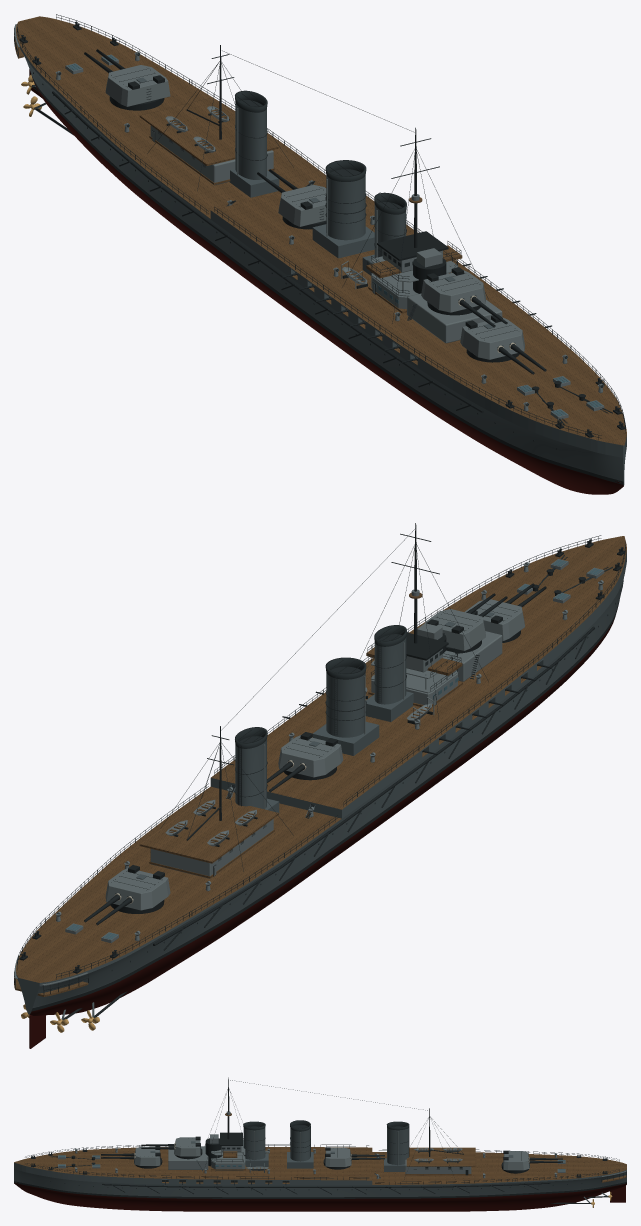
File: QueenMary_v4_Exterior.fbx
3 renders of one model, top to bottom at view 1: azimuth 30°, elevation 25°; view 2: azimuth 150°, elevation 25°; view 3: azimuth 270°, elevation 25°, orthographic. The views are drawn at different scales.
Visible parts, largest first — view 1: Forecastle, Hull, Quarterdeck, Presentation_Fittings, Deck_Visual_Details, Aft_Platform, Funnel_2, Funnel_3, Turret_B, Turret_X, Torpedo_Net_Starboard_Mesh, Turret_A (+9 smaller); view 2: Forecastle, Hull, Quarterdeck, Presentation_Fittings, Aft_Platform, Deck_Visual_Details, Funnel_2, Funnel_3, Funnel_1, Torpedo_Net_Starboard_Mesh, Turret_X, Turret_Q (+9 smaller); view 3: Hull, Forecastle, Quarterdeck, Presentation_Fittings, Deck_Visual_Details, Aft_Platform, Torpedo_Net_Port_Mesh, Funnel_3, Funnel_1, Funnel_2, B_Superfiring_Deckhouse, Aft_Deckhouse (+12 smaller).
Boxes of the visible parts, bbox=[...] form: Forecastle: bbox=[210, 182, 626, 457]; Hull: bbox=[25, 57, 626, 494]; Quarterdeck: bbox=[16, 16, 326, 218]; Presentation_Fittings: bbox=[19, 21, 625, 484]; Deck_Visual_Details: bbox=[17, 14, 625, 449]; Aft_Platform: bbox=[139, 98, 278, 165]; Funnel_2: bbox=[325, 160, 366, 240]; Funnel_3: bbox=[235, 90, 267, 179]; Turret_B: bbox=[421, 267, 485, 312]; Turret_X: bbox=[105, 65, 170, 106]; Torpedo_Net_Starboard_Mesh: bbox=[52, 91, 483, 413]; Turret_A: bbox=[460, 314, 524, 359]; Forecastle: bbox=[210, 536, 626, 818]; Hull: bbox=[18, 578, 623, 1015]; Quarterdeck: bbox=[16, 786, 341, 986]; Presentation_Fittings: bbox=[19, 539, 625, 1011]; Aft_Platform: bbox=[139, 795, 278, 863]; Deck_Visual_Details: bbox=[17, 535, 625, 979]; Funnel_2: bbox=[325, 657, 366, 737]; Funnel_3: bbox=[235, 727, 267, 809]; Funnel_1: bbox=[374, 625, 406, 704]; Torpedo_Net_Starboard_Mesh: bbox=[153, 626, 594, 950]; Turret_X: bbox=[105, 865, 170, 910]; Turret_Q: bbox=[278, 732, 343, 777]; Hull: bbox=[14, 1169, 626, 1211]; Forecastle: bbox=[14, 1147, 372, 1185]; Quarterdeck: bbox=[372, 1152, 626, 1185]; Presentation_Fittings: bbox=[14, 1139, 626, 1198]; Deck_Visual_Details: bbox=[25, 1144, 619, 1190]; Aft_Platform: bbox=[406, 1147, 475, 1166]; Torpedo_Net_Port_Mesh: bbox=[102, 1182, 550, 1194]; Funnel_3: bbox=[386, 1121, 409, 1165]; Funnel_1: bbox=[243, 1121, 265, 1160]; Funnel_2: bbox=[290, 1120, 310, 1161]; B_Superfiring_Deckhouse: bbox=[168, 1146, 208, 1169]; Aft_Deckhouse: bbox=[405, 1159, 471, 1173].
Bounding box in the file's own units: 32.1 × 50.09 × 213.
Materials: 9 (5 with a texture image).
